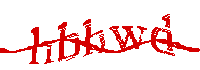b: (57, 22, 81, 61)
d: (150, 13, 176, 56)
h: (29, 24, 53, 68), (83, 19, 107, 56)
w: (108, 24, 149, 53)
